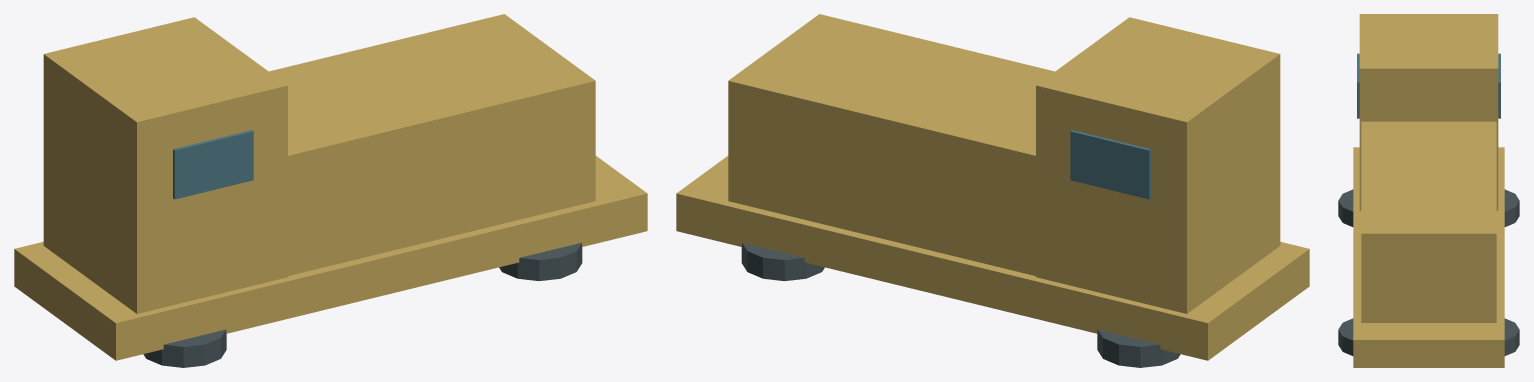
Rendered from locomotive-lod1.glb.
3 views of the same model, side by side, from view 1: azimuth 30°, elevation 25°; view 2: azimuth 150°, elevation 25°; view 3: azimuth 270°, elevation 25° (orthographic). The views are drawn at different scales.
Parts seen in each view (by area): view 1: hood, cab, body, glass_right, wheel_-2.6_0.95, wheel_2.35_0.95; view 2: hood, cab, body, glass_left, wheel_-2.6_-0.95, wheel_2.35_-0.95; view 3: hood, cab, body, wheel_-2.6_-0.95, wheel_-2.6_0.95, wheel_2.35_-0.95, wheel_2.35_0.95, glass_right, glass_left.
Boxes of the visible parts, <box> form: hood: <box>269,14,595,275</box>; cab: <box>43,17,287,313</box>; body: <box>14,156,647,360</box>; glass_right: <box>173,130,253,199</box>; wheel_-2.6_0.95: <box>143,329,226,367</box>; wheel_2.35_0.95: <box>499,242,582,281</box>; hood: <box>728,14,1054,275</box>; cab: <box>1036,17,1280,313</box>; body: <box>676,156,1309,360</box>; glass_left: <box>1070,130,1150,199</box>; wheel_-2.6_-0.95: <box>1097,329,1180,367</box>; wheel_2.35_-0.95: <box>741,242,824,281</box>; hood: <box>1361,121,1496,322</box>; cab: <box>1359,14,1498,210</box>; body: <box>1353,147,1504,367</box>; wheel_-2.6_-0.95: <box>1504,189,1519,226</box>; wheel_-2.6_0.95: <box>1338,189,1353,226</box>; wheel_2.35_-0.95: <box>1504,318,1519,355</box>; wheel_2.35_0.95: <box>1338,318,1353,355</box>; glass_right: <box>1357,53,1359,118</box>; glass_left: <box>1498,53,1500,118</box>.
Size of the model in its own units: 7.4 by 3.27 by 2.94.
